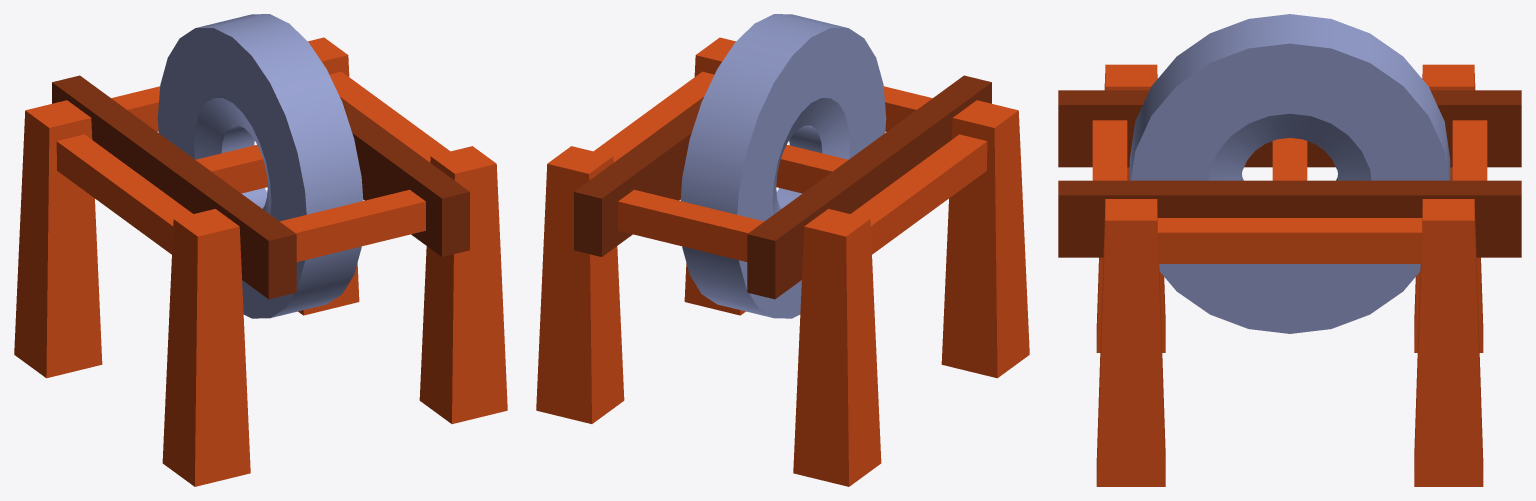
Rendered from workbenchGrind.obj.
The picture shows the model from 3 angles, left to right: view 1: azimuth 30°, elevation 25°; view 2: azimuth 150°, elevation 25°; view 3: azimuth 270°, elevation 25°; orthographic projection. The views are drawn at different scales.
Visible parts, largest first — view 1: workbenchGrind; view 2: workbenchGrind; view 3: workbenchGrind.
Boxes of the visible parts, bbox=[...] form: workbenchGrind: bbox=[14, 14, 507, 486]; workbenchGrind: bbox=[536, 14, 1029, 486]; workbenchGrind: bbox=[1058, 14, 1521, 486].
Size of the model in its own units: 0.2604 by 0.2801 by 0.3125.
